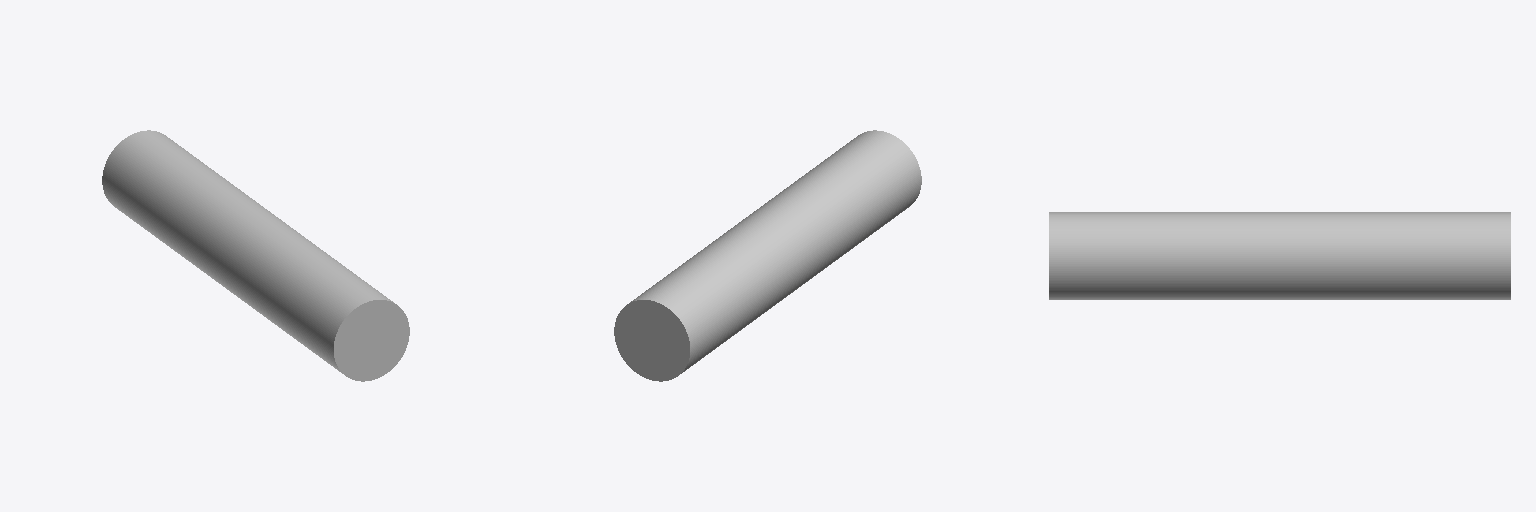
File: Finger Unified Assembly - Part 1 (5).obj
The picture shows the model from 3 angles: view 1: azimuth 30°, elevation 25°; view 2: azimuth 150°, elevation 25°; view 3: azimuth 270°, elevation 25°; orthographic projection.
Visible parts, largest first — view 1: mesh1, mesh0; view 2: mesh1, mesh2; view 3: mesh1.
Part boxes in pixels (left/top/right/bottom): mesh1: left=102, top=130, right=393, bottom=373; mesh0: left=334, top=300, right=409, bottom=381; mesh1: left=630, top=130, right=921, bottom=373; mesh2: left=614, top=300, right=689, bottom=381; mesh1: left=1049, top=212, right=1510, bottom=299.
Bounding box in the file's own units: 0.006 × 0.006 × 0.0316.